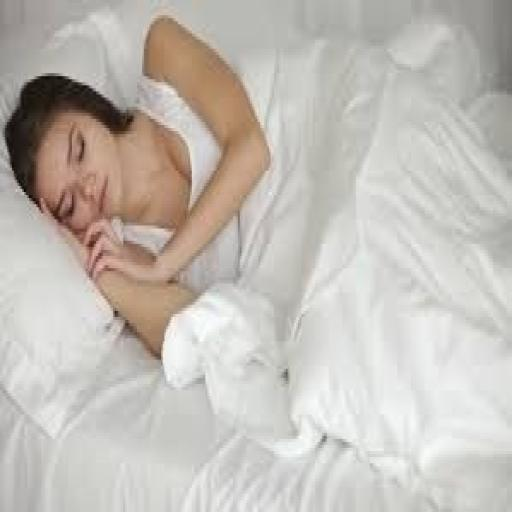sleeping: (3, 9, 274, 360)
